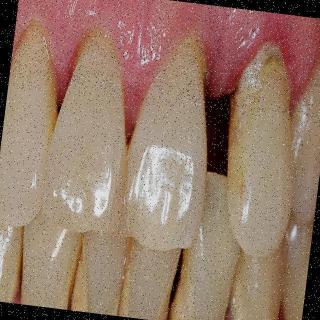Gum Swelling: (18, 2, 320, 120)
calculus: (234, 28, 283, 102), (64, 252, 98, 320), (116, 255, 143, 320)
